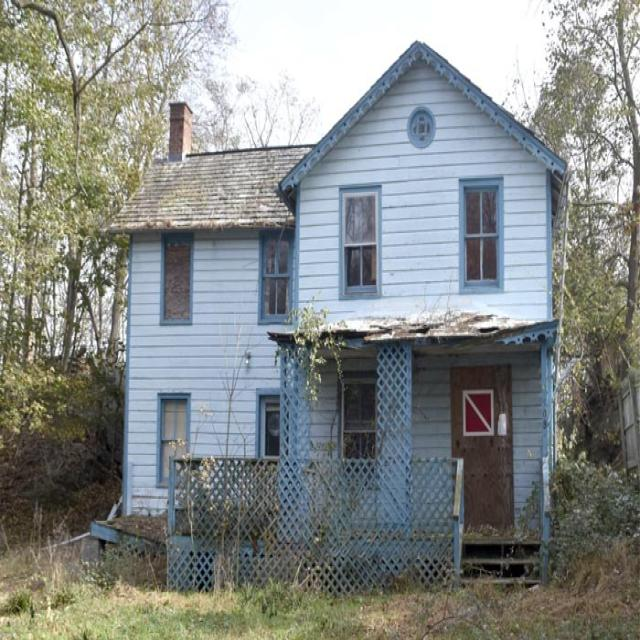House: (116, 40, 566, 594)
